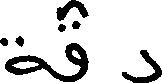X: (0, 31, 42, 79), (66, 0, 87, 82), (124, 45, 161, 82)
